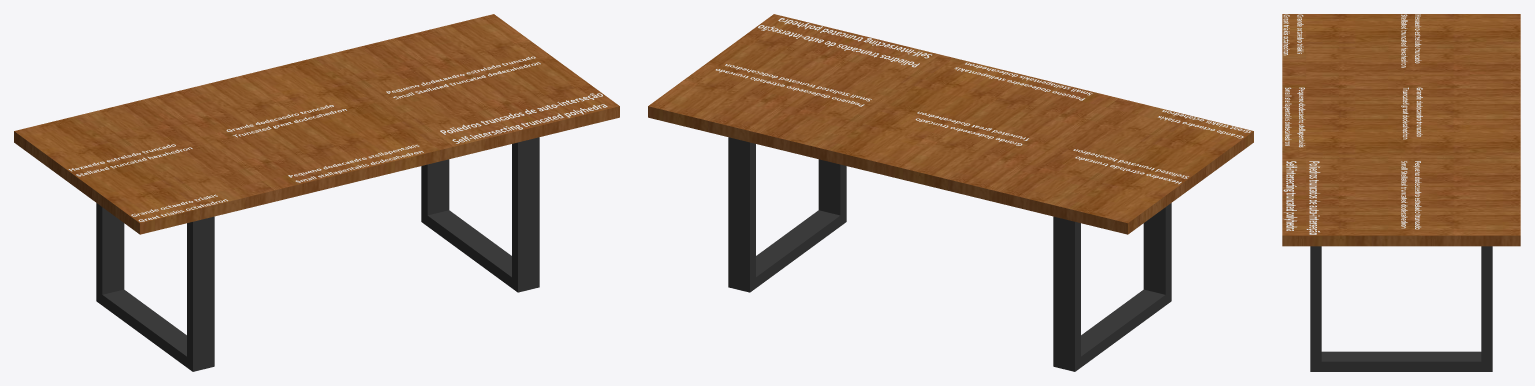
The model's file is selfinterTrunc1.glb.
3 renders of one model, left to right at view 1: azimuth 30°, elevation 25°; view 2: azimuth 150°, elevation 25°; view 3: azimuth 270°, elevation 25°, orthographic. The views are drawn at different scales.
Visible parts, largest first — view 1: object 1, Composant#1 (×2), Poliedros trunca, Pequeno dodecaed#1, Pequeno dodecaed, Hexaedro estrela, Grande dodecaedr; view 2: object 1, Composant#1 (×2), Poliedros trunca, Pequeno dodecaed#1, Pequeno dodecaed, Hexaedro estrela, Grande dodecaedr; view 3: object 1, Composant#1, Poliedros trunca, Pequeno dodecaed#1, Pequeno dodecaed, Hexaedro estrela, Grande dodecaedr, Grande octaedro.
Part boxes in pixels (bbox=[...]): object 1: bbox=[14, 14, 619, 234]; Composant#1 (×2): bbox=[96, 137, 539, 371]; Poliedros trunca: bbox=[440, 93, 607, 143]; Pequeno dodecaed#1: bbox=[386, 56, 540, 99]; Pequeno dodecaed: bbox=[288, 144, 423, 182]; Hexaedro estrela: bbox=[68, 144, 192, 176]; Grande dodecaedr: bbox=[226, 105, 346, 137]; object 1: bbox=[648, 14, 1253, 234]; Composant#1 (×2): bbox=[728, 137, 1171, 371]; Poliedros trunca: bbox=[758, 18, 931, 67]; Pequeno dodecaed#1: bbox=[716, 64, 871, 106]; Pequeno dodecaed: bbox=[954, 62, 1092, 100]; Hexaedro estrela: bbox=[1073, 149, 1188, 184]; Grande dodecaedr: bbox=[915, 111, 1028, 145]; object 1: bbox=[1282, 14, 1520, 246]; Composant#1: bbox=[1310, 246, 1492, 371]; Poliedros trunca: bbox=[1283, 161, 1320, 234]; Pequeno dodecaed#1: bbox=[1401, 161, 1421, 229]; Pequeno dodecaed: bbox=[1283, 87, 1305, 147]; Hexaedro estrela: bbox=[1401, 14, 1421, 67]; Grande dodecaedr: bbox=[1401, 87, 1422, 139]; Grande octaedro: bbox=[1283, 14, 1303, 55].
Bounding box in the file's own units: 2.2 × 0.7711 × 1.
Materials: 3 (1 with a texture image).
